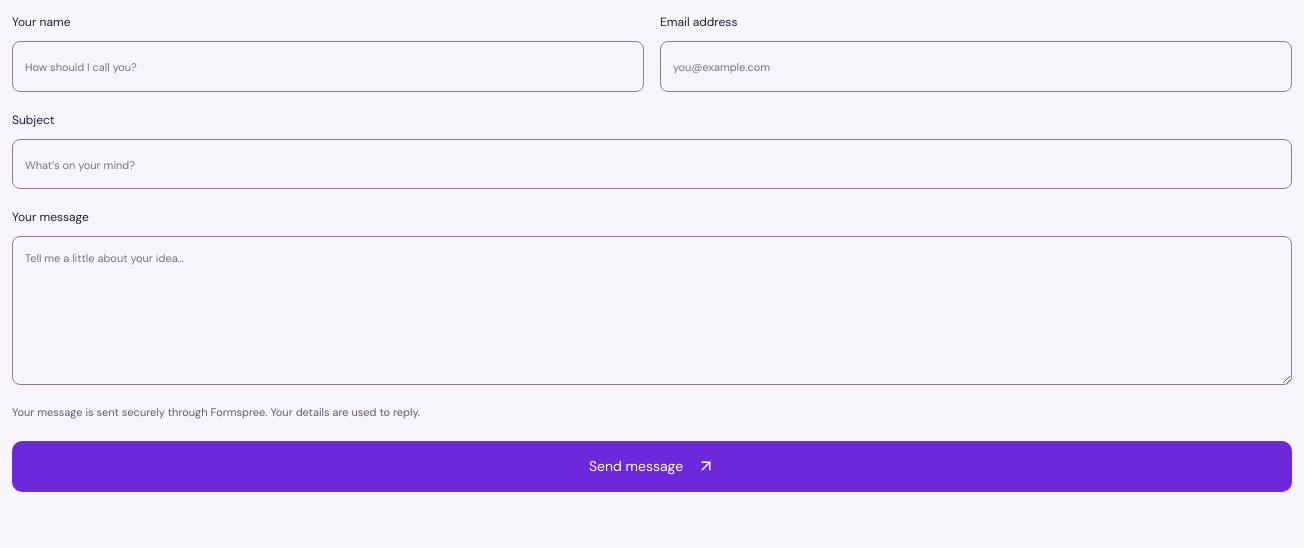
Test: Contact form › keeps the draft when the service fails: false
The width and height of the screenshot is (1304, 548).
Type "Example Visitor" into the field labelled "Your name" at x=328, y=66, box [12,41,644,92]
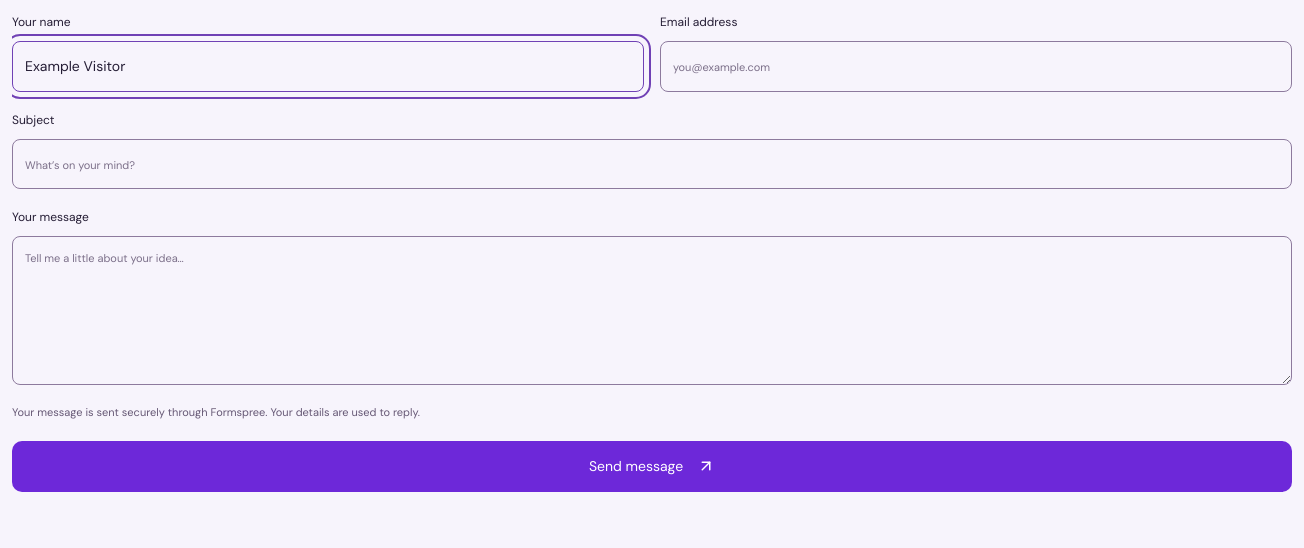
Type "visitor@example.com" into the field labelled "Email address" at x=976, y=66, box [660,41,1292,92]
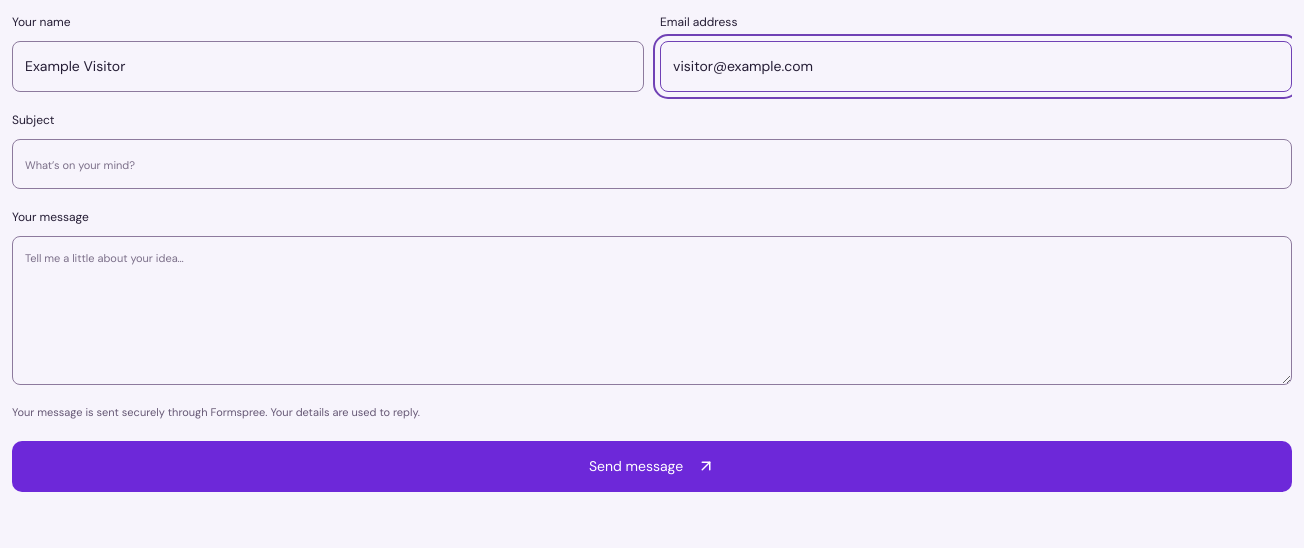
Type "Project idea" into the field labelled "Subject" at x=652, y=164, box [12,138,1292,189]
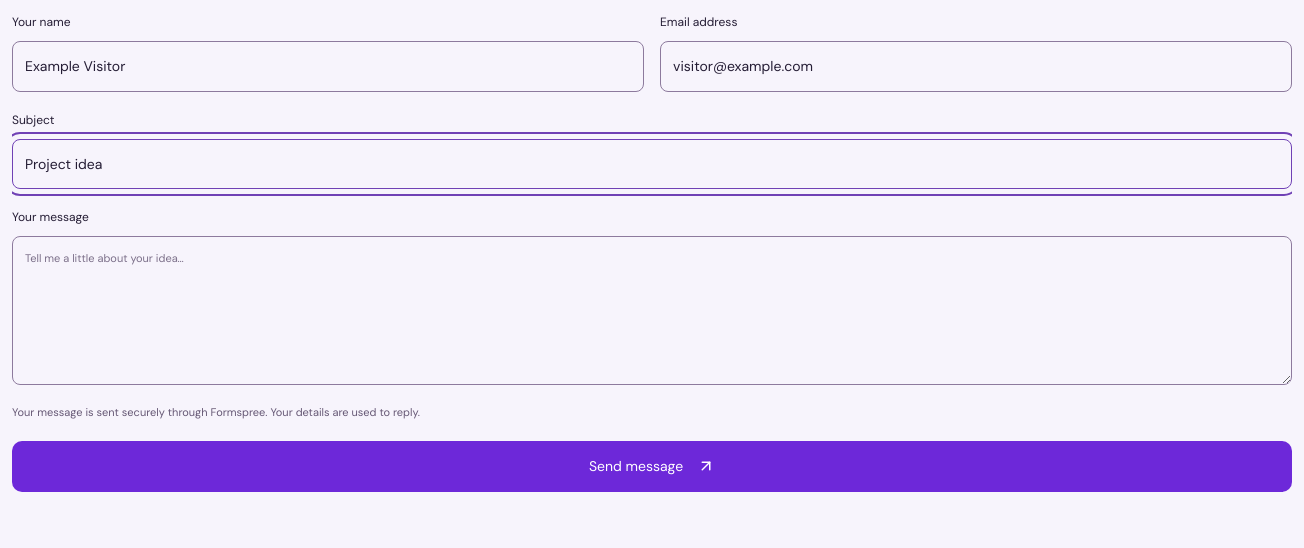
Type "I would like to discuss a thoughtful project." into the text box labelled "Your message" at x=652, y=310, box [12,236,1292,384]
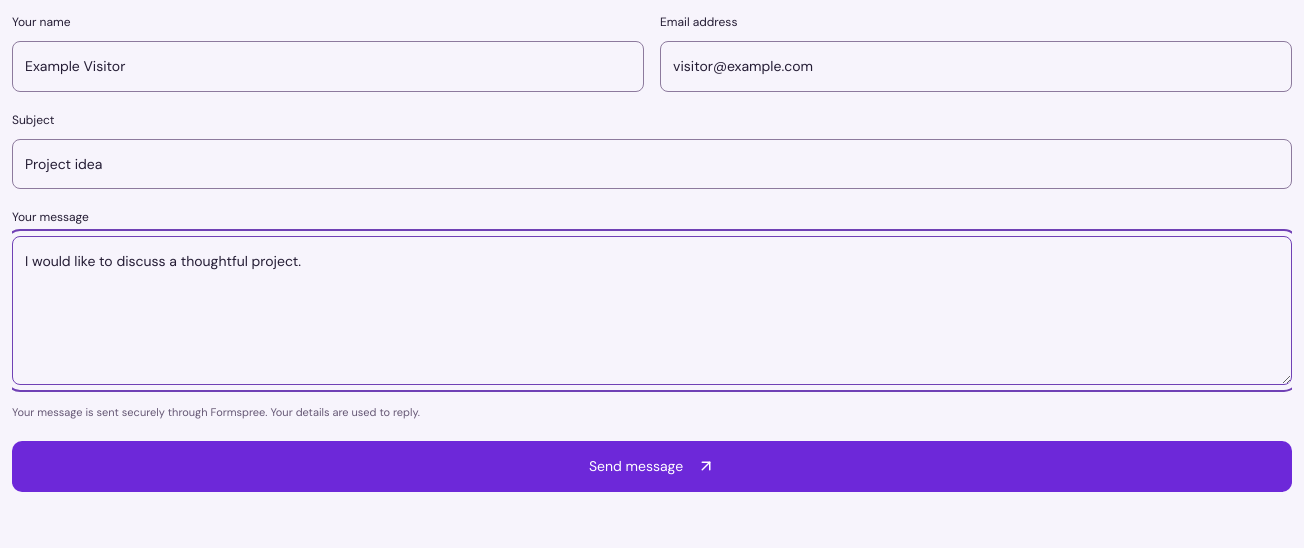
Click the button "Send message" at x=652, y=466, box [12,441,1292,492]
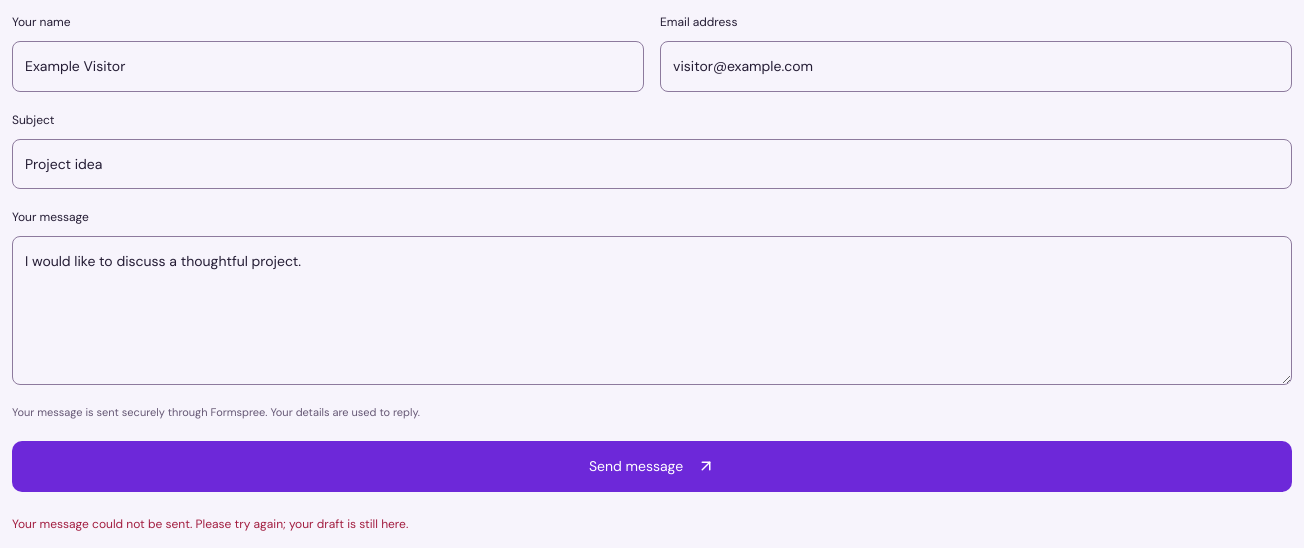
Result: the text "Your message could not be sent. Please try again; your draft is still here." is shown at [12,516,408,532]
